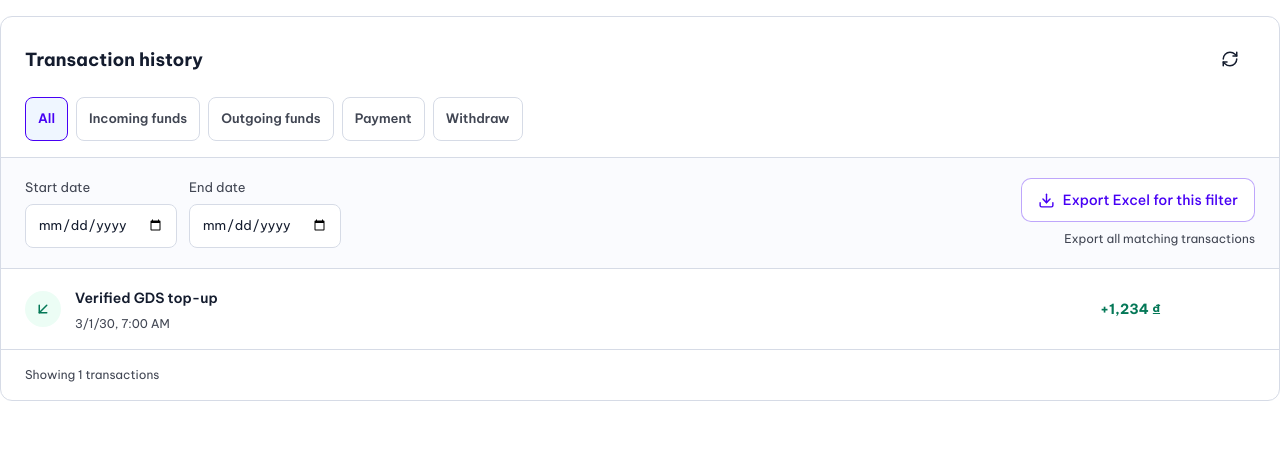
Test: exports the selected full filter through a read API and downloads only a complete workbook
Expected: the button "Export Excel for this filter" is enabled, [1021, 178, 1255, 222]
Click the button with aria-label "Filter: Incoming funds".
click(138, 119)  # box [76, 97, 200, 141]
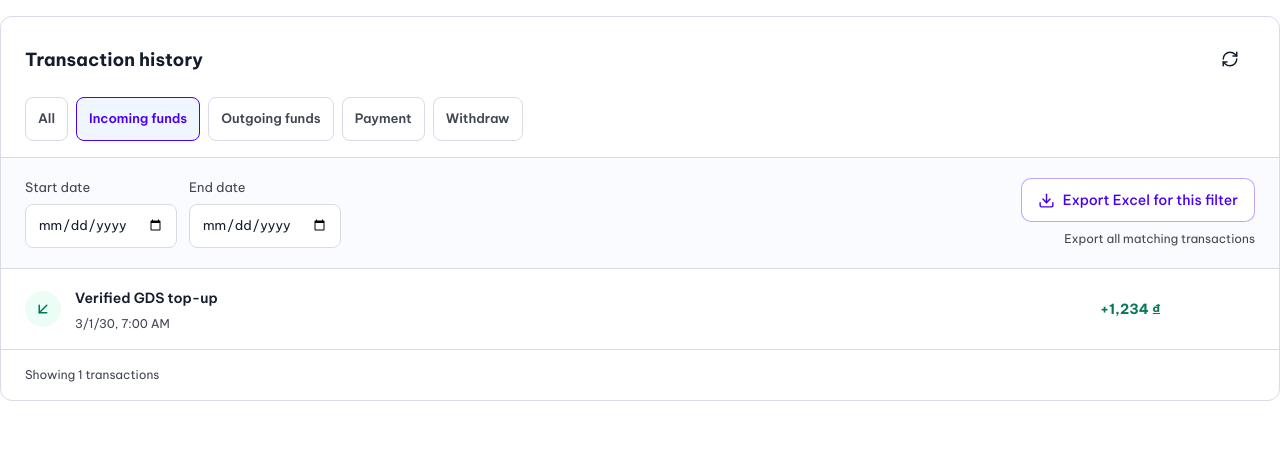
Click the button "Export Excel for this filter".
click(1138, 200)  # box [1021, 178, 1255, 222]
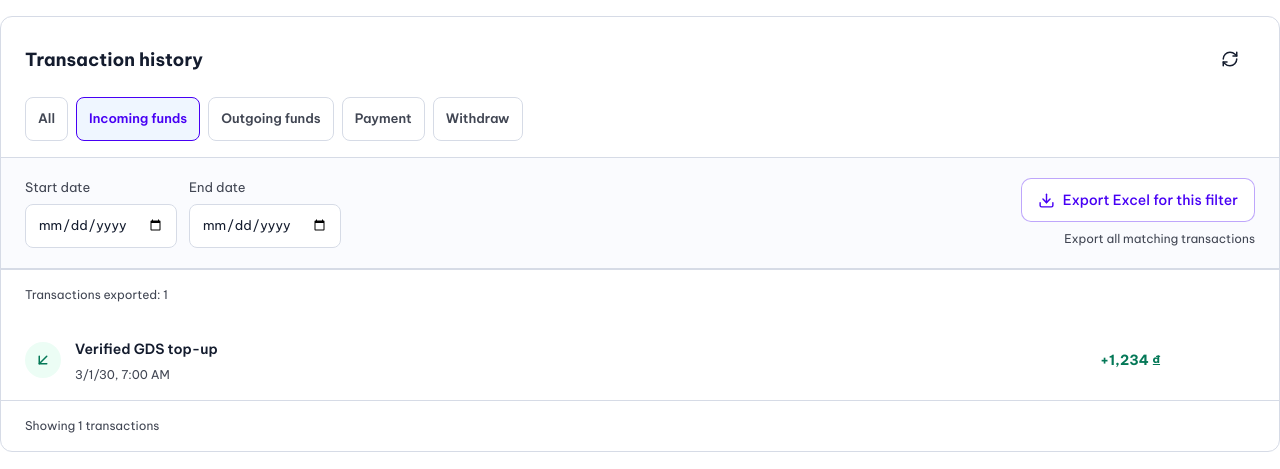
Expected: the message shows "1", [163, 287, 168, 302]
